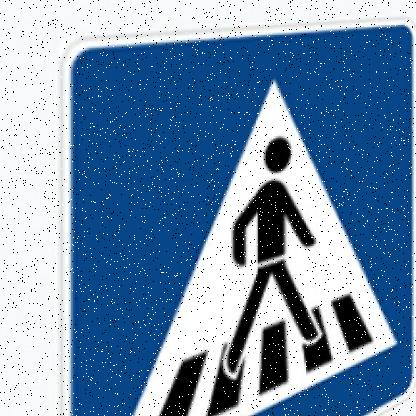Pedestrian Crossing: (54, 18, 416, 416)
